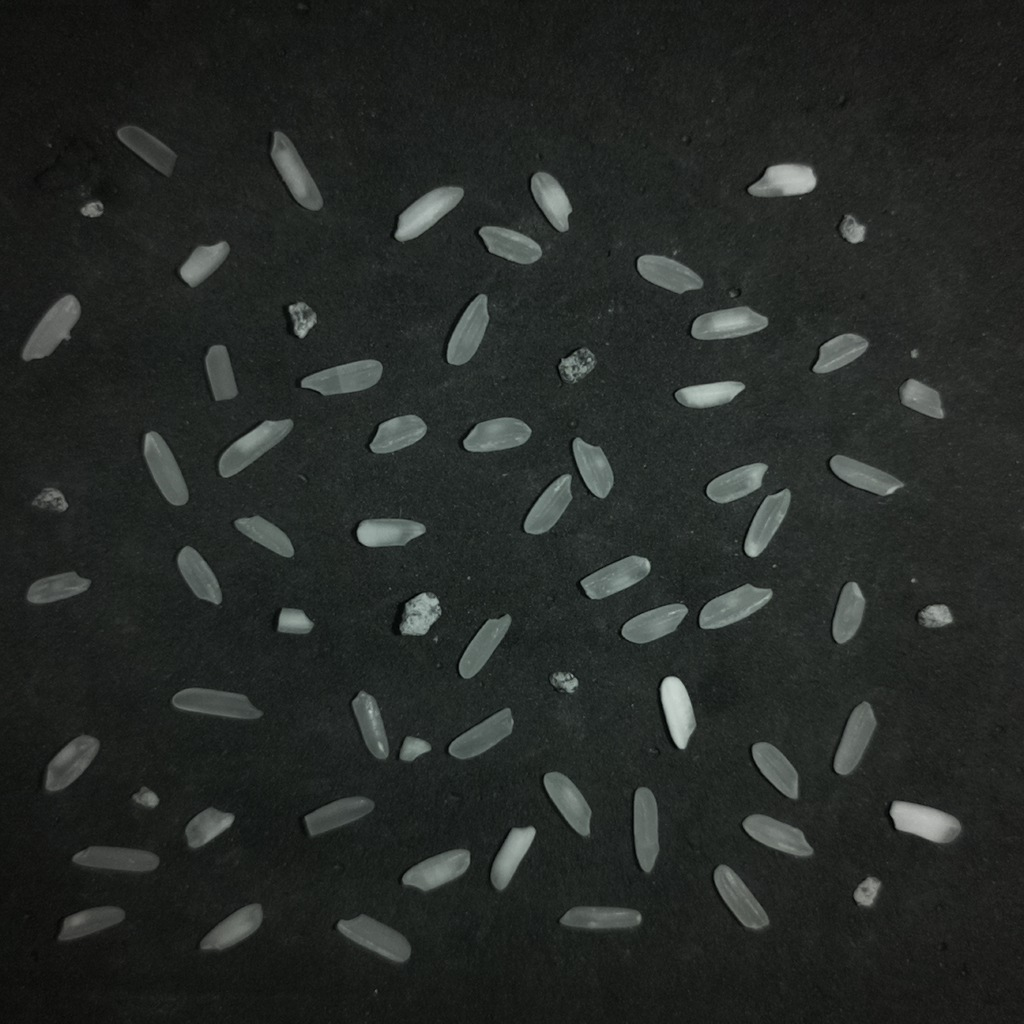broken: (205, 345, 238, 401)
chalky: (218, 420, 293, 477), (270, 132, 323, 211), (21, 294, 80, 360), (394, 186, 463, 241), (335, 914, 410, 963), (699, 584, 772, 629), (889, 800, 961, 843), (44, 735, 99, 791), (580, 555, 650, 599), (543, 772, 591, 836), (199, 904, 262, 951), (742, 814, 812, 856), (490, 826, 535, 891), (401, 849, 470, 891), (659, 676, 695, 749), (351, 691, 388, 759), (691, 306, 767, 339), (531, 171, 571, 232), (747, 163, 816, 197), (179, 241, 229, 287), (26, 571, 90, 604), (185, 806, 234, 848), (560, 906, 641, 930), (356, 520, 425, 547), (674, 381, 744, 407), (399, 592, 441, 635), (899, 378, 944, 418), (287, 301, 317, 339), (277, 608, 313, 634), (916, 604, 953, 628), (854, 876, 881, 908), (398, 735, 431, 761), (837, 213, 865, 243), (132, 786, 159, 809)
foreign: (559, 347, 594, 382), (33, 488, 67, 511), (550, 672, 577, 692), (81, 200, 103, 217)
whole: (713, 865, 768, 929), (458, 614, 511, 678), (448, 707, 513, 759), (143, 431, 187, 506), (833, 702, 876, 775), (744, 488, 790, 556), (116, 125, 176, 176), (829, 454, 903, 495), (446, 294, 488, 365), (300, 359, 382, 395), (171, 687, 262, 719), (523, 474, 571, 534), (303, 796, 374, 836), (751, 741, 798, 798), (620, 604, 687, 643), (177, 546, 221, 605), (572, 437, 613, 498), (636, 255, 701, 293), (705, 463, 766, 503), (234, 516, 293, 557), (462, 417, 531, 452), (478, 226, 541, 264), (57, 906, 125, 940), (812, 333, 868, 373), (72, 846, 158, 872), (369, 414, 426, 453), (633, 787, 659, 872), (831, 581, 865, 644)
